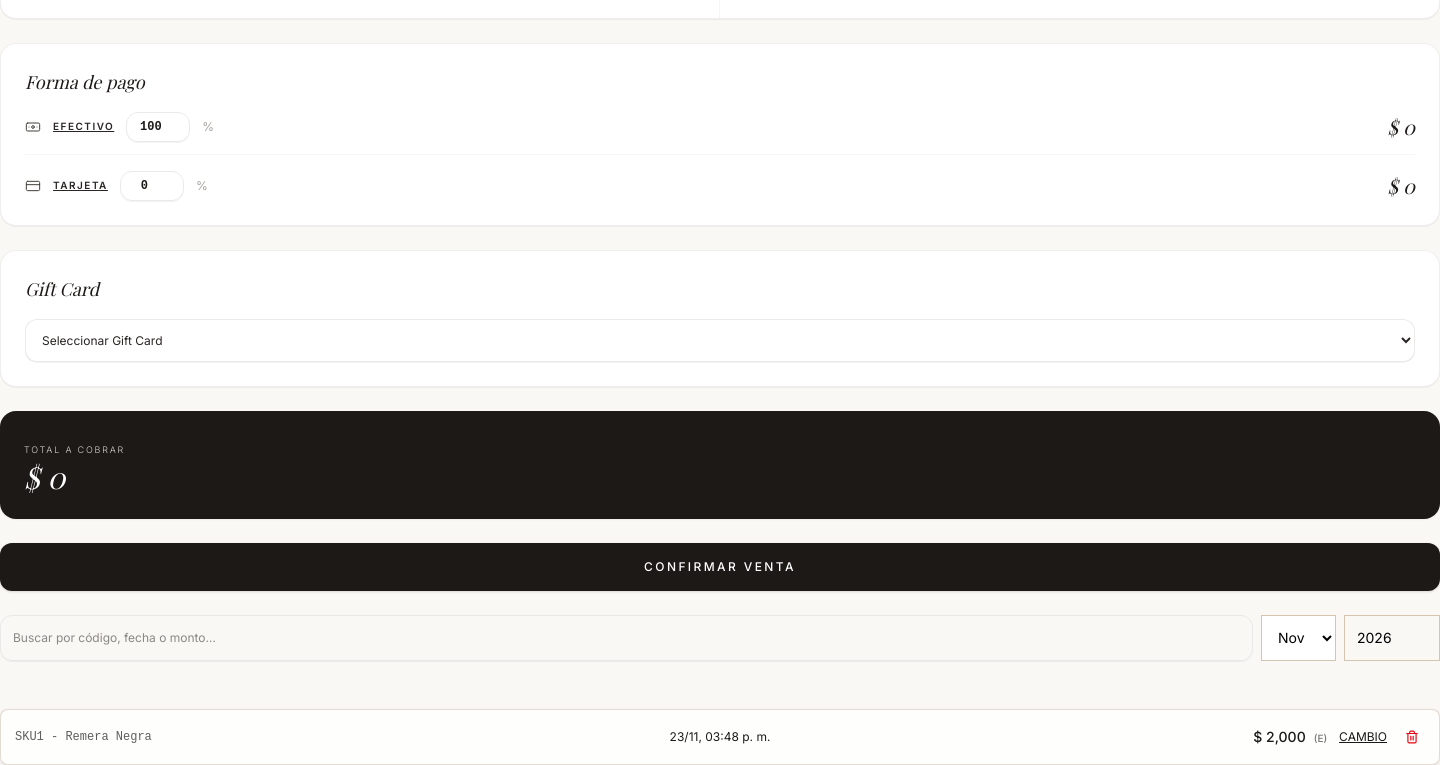
Test: Componente Sales › Bug 9: Permite realizar un cambio con diferencia abonada 100% con Gift Card sin exigir medios de pago tradicionales
Later steps or results of the test are not shown.
(page scrolled)
# Iniciar modo cambio desde la venta original
Click the button "Cambio".
click(1363, 736)  # box [1339, 728, 1387, 744]
(page scrolled)
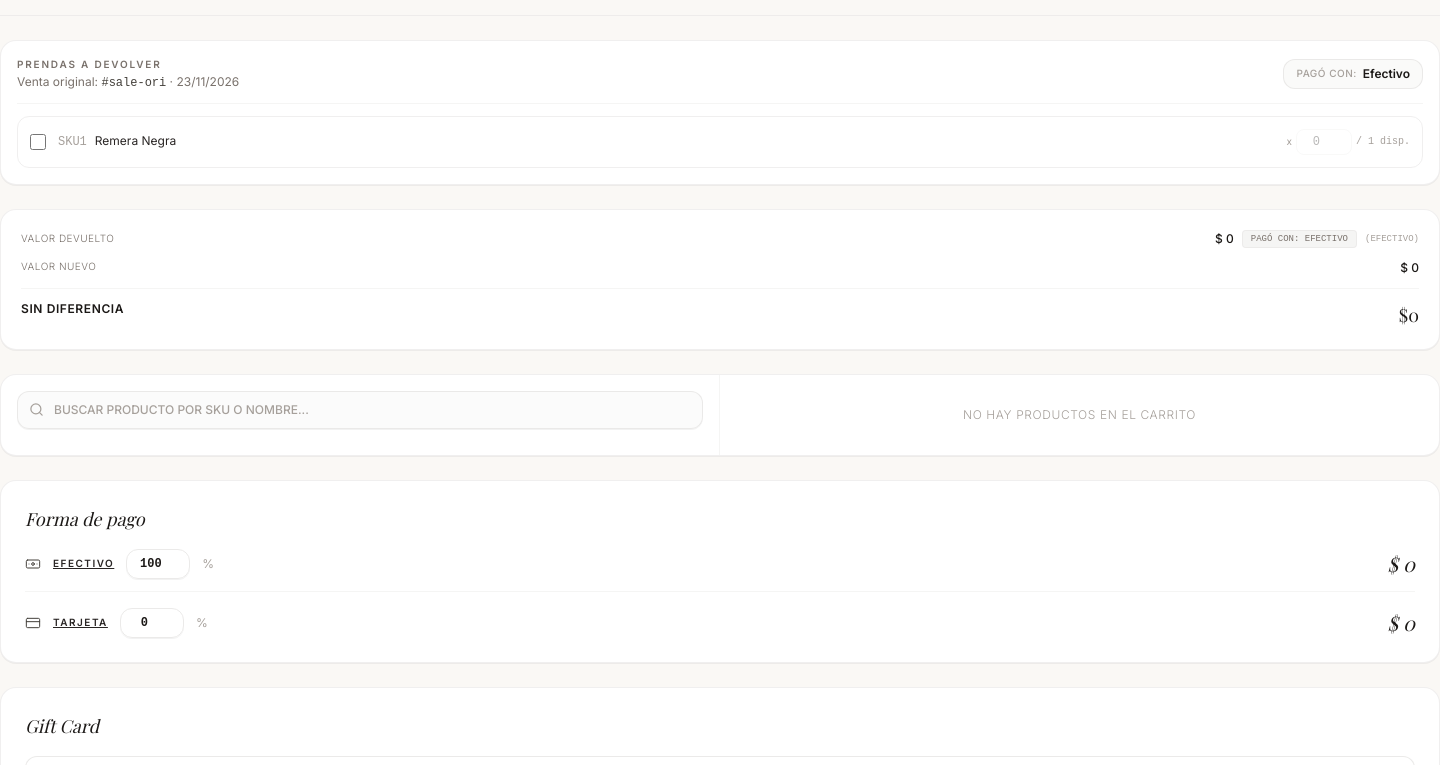
Click the checkbox.
click(38, 142)  # box [30, 134, 46, 150]
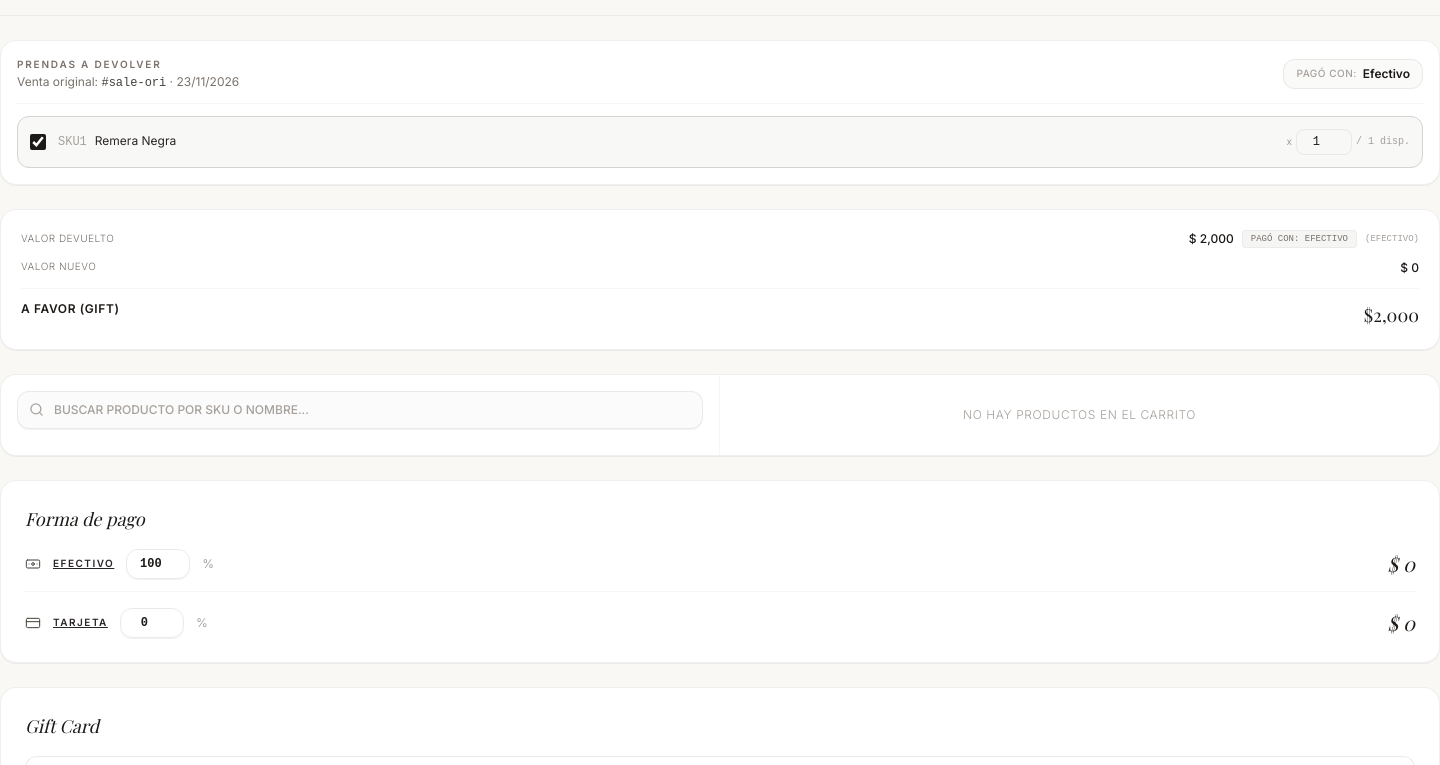
Type "Jean" into the field with placeholder "Buscar producto por SKU o nombre...".
click(360, 410); type("Jean")  # box [17, 390, 703, 428]
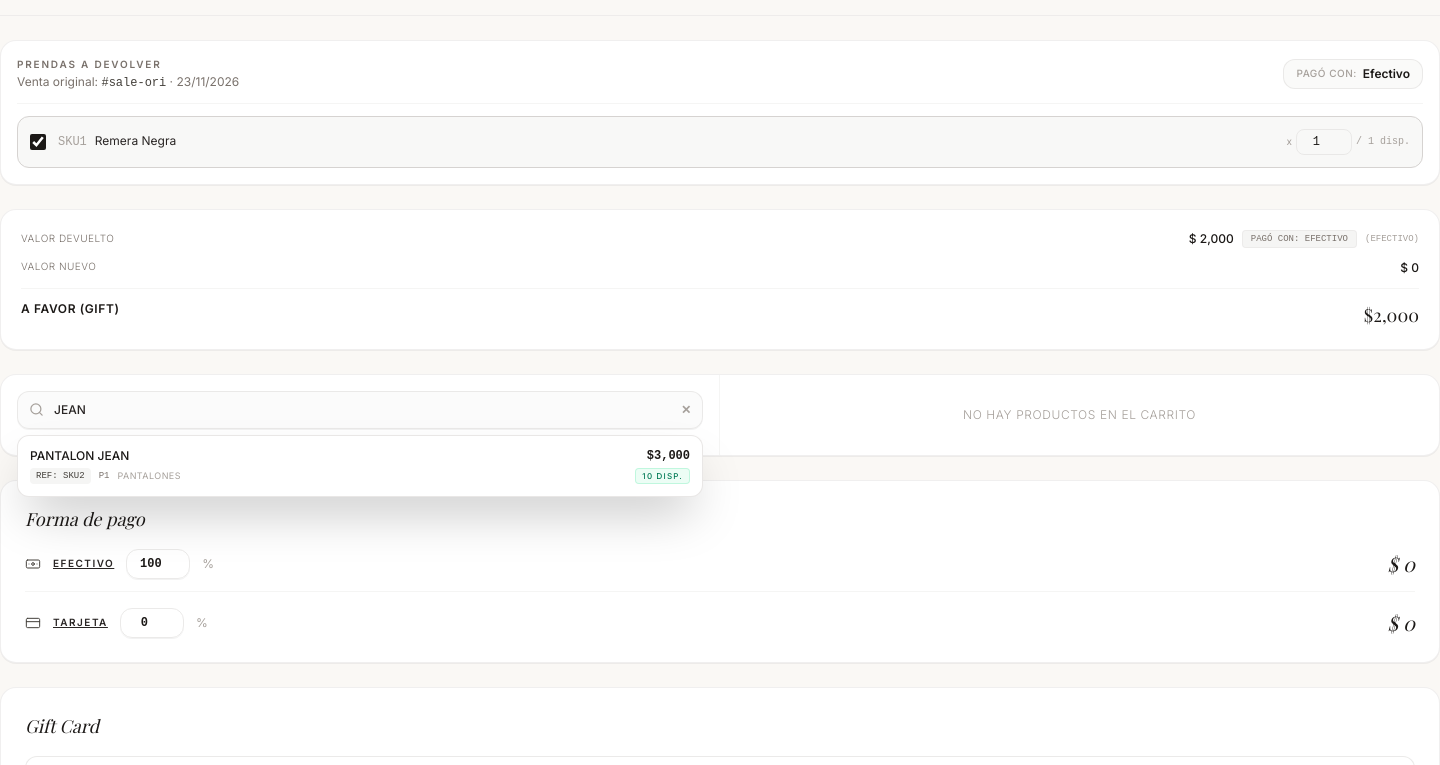
Press the mouse on the text "Pantalon Jean" at [80, 455], box [30, 448, 129, 462]
(page scrolled)
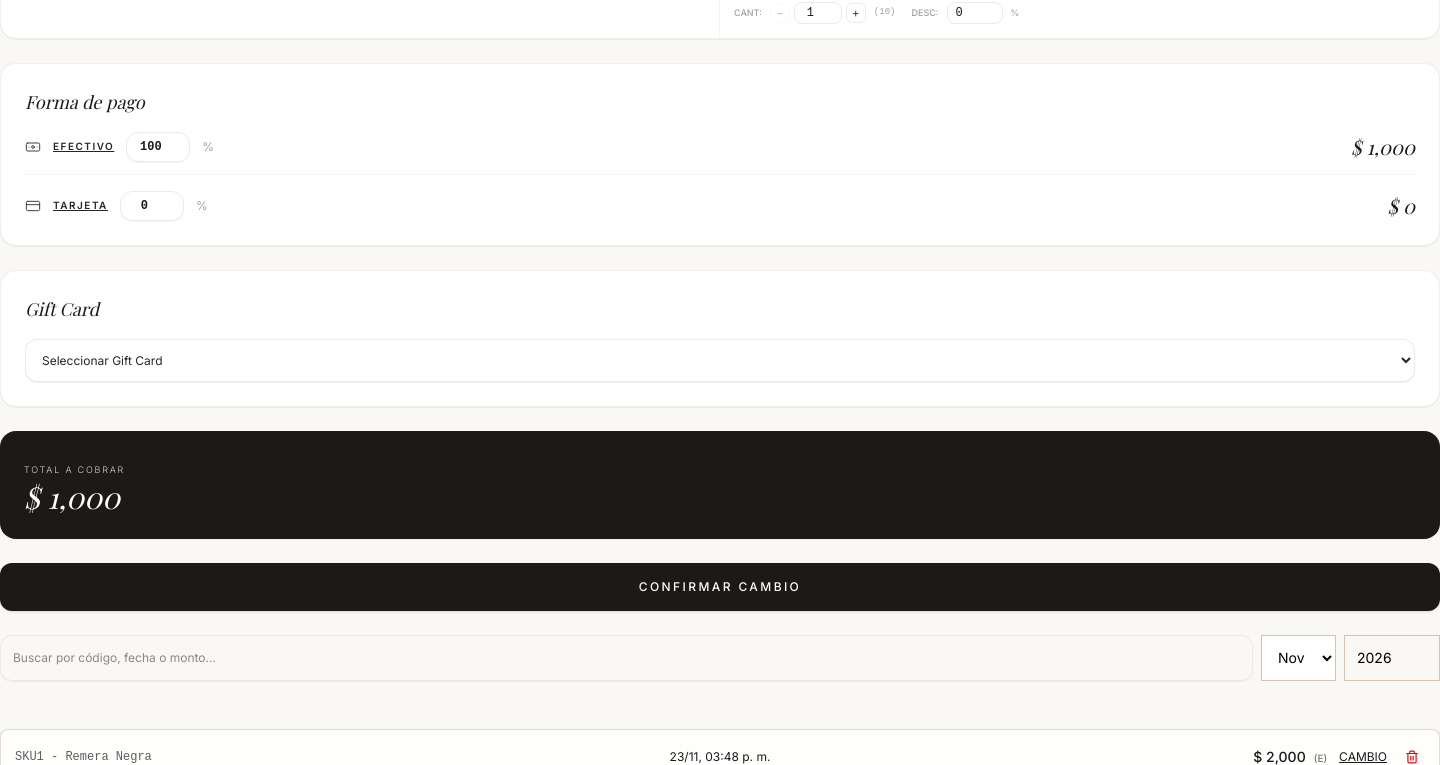
# Seleccionar la Gift Card de $1.000
Select "GC-DIFF — Cliente Test (Saldo: $1,000)" in the dropdown showing "Seleccionar Gift Card" below "Gift Card" at [720, 360], box [25, 338, 1415, 382]
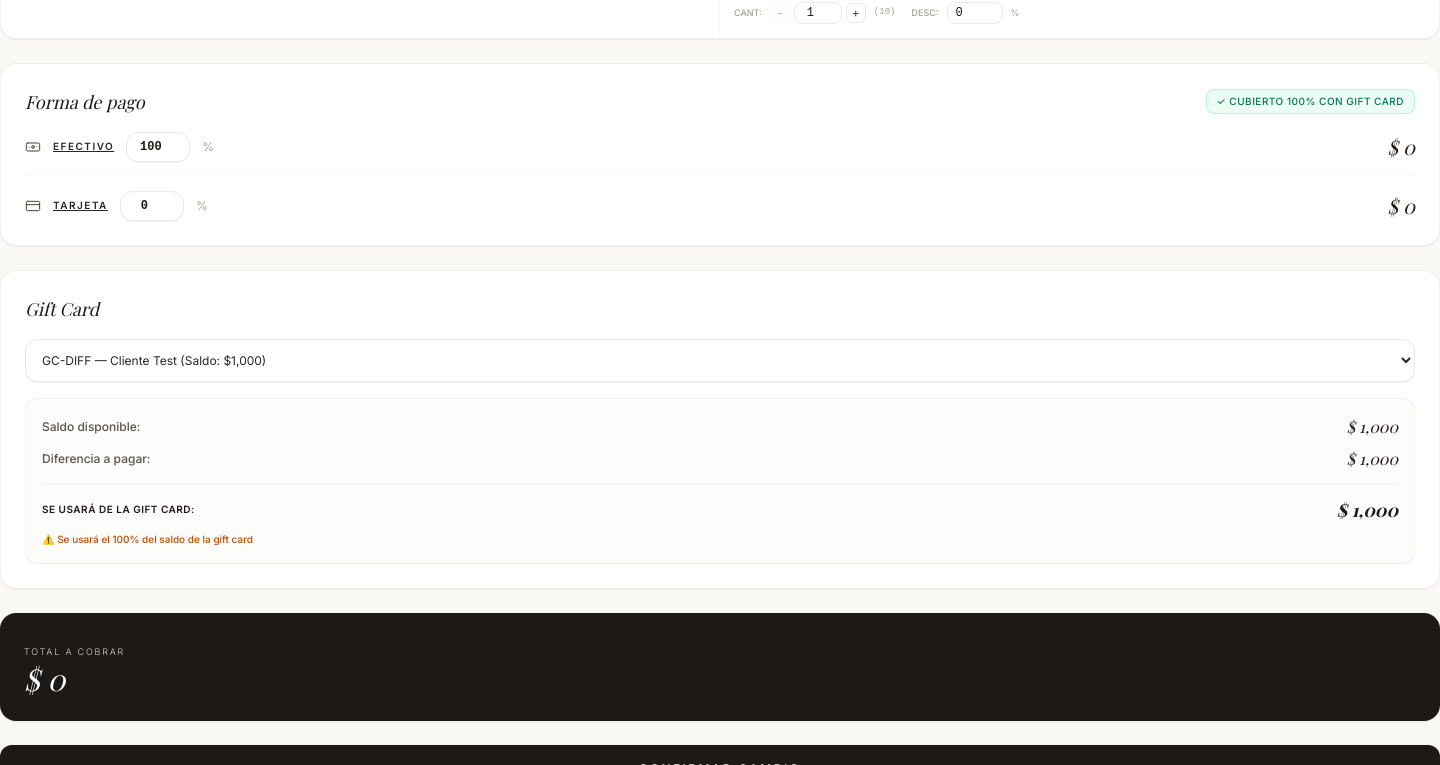
Expected: the text "✓ Cubierto 100% con Gift Card" is shown, [1206, 89, 1415, 114]
Expected: the text "Se usará de la gift card:" is shown, [42, 502, 195, 517]
